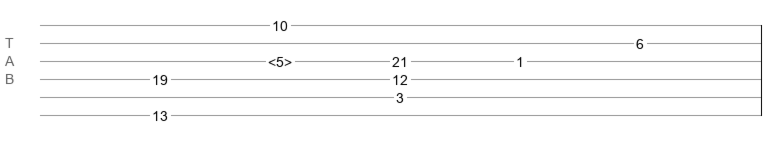1: (516, 54, 524, 64)
10: (272, 18, 288, 28)
12: (392, 72, 408, 82)
13: (152, 108, 168, 118)
19: (152, 72, 168, 82)
21: (392, 54, 408, 64)
3: (396, 90, 404, 100)
6: (636, 36, 644, 46)
harmonic: (268, 54, 292, 64)
